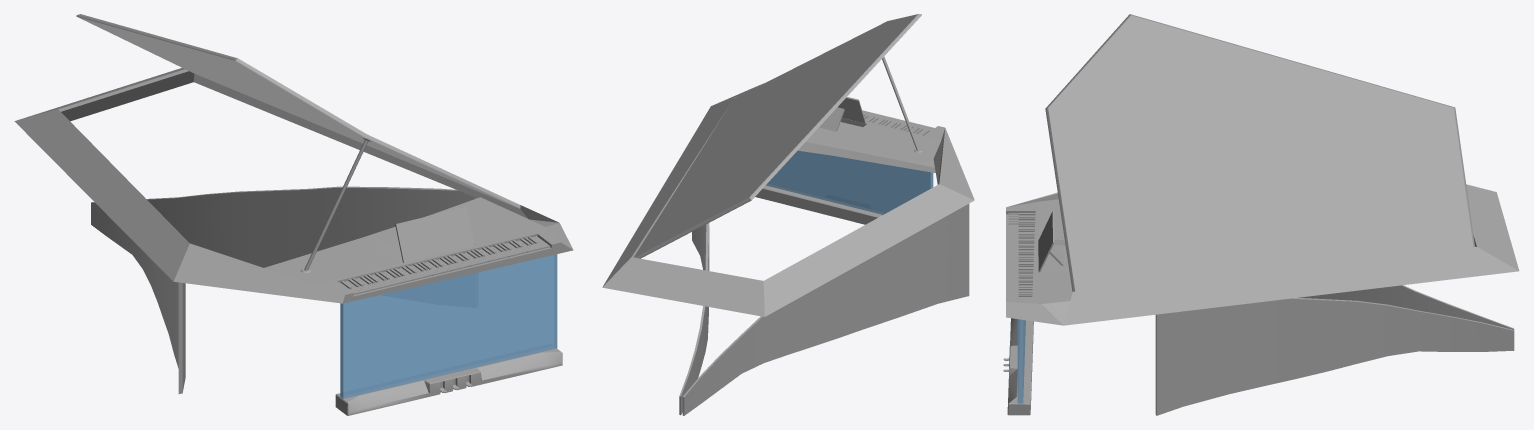
File: piano_loq1.fbx
The picture shows the model from 3 angles, left to right: view 1: azimuth 30°, elevation 25°; view 2: azimuth 150°, elevation 25°; view 3: azimuth 270°, elevation 25°; orthographic projection. The views are drawn at different scales.
Visible parts, largest first — view 1: piano6; view 2: piano6; view 3: piano6.
Part boxes in pixels (x1,y1,x2,y2): piano6: (14,14,573,415); piano6: (602,14,974,415); piano6: (1003,14,1519,415).
Size of the model in its own units: 291 by 269 by 413.
